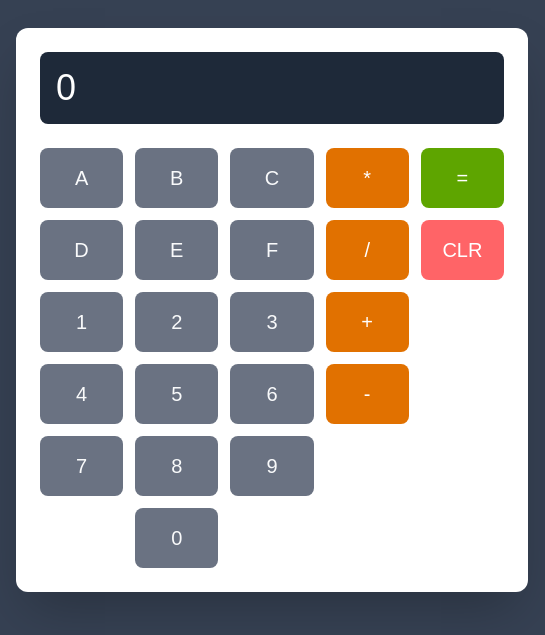
Test case: Calculator Add Funtion › should subtract 1 with FFF
Click the button with test id "1". click: (82, 322)
box: 40,292 -> 123,352
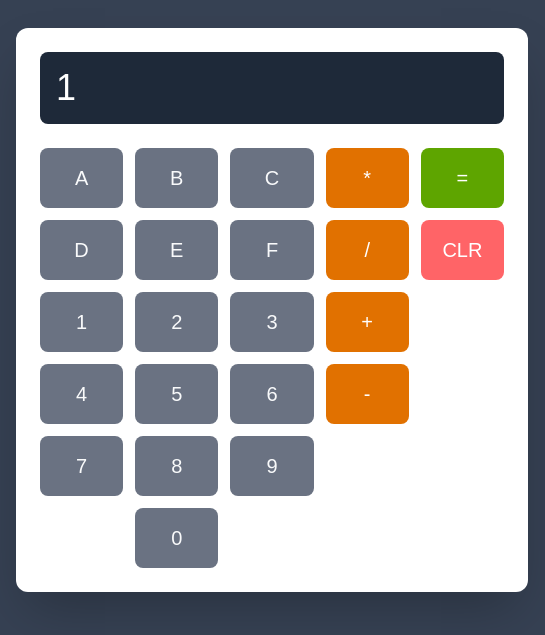
Click the button with test id "-". click: (368, 394)
box: 326,364 -> 409,424
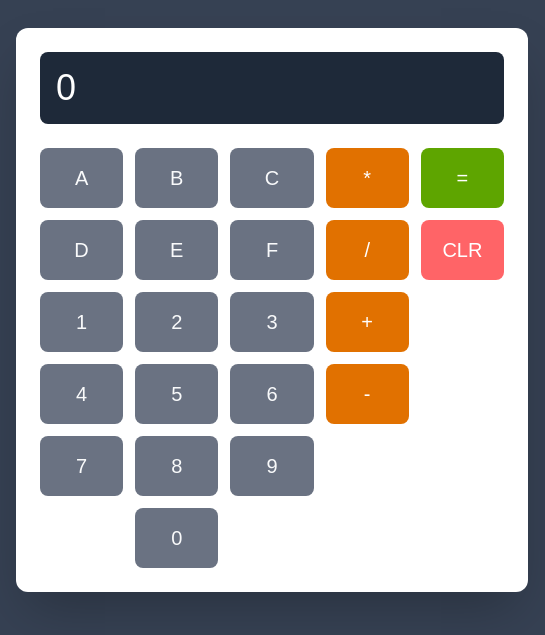
Click the button with test id "F". click: (272, 250)
box: 230,220 -> 313,280
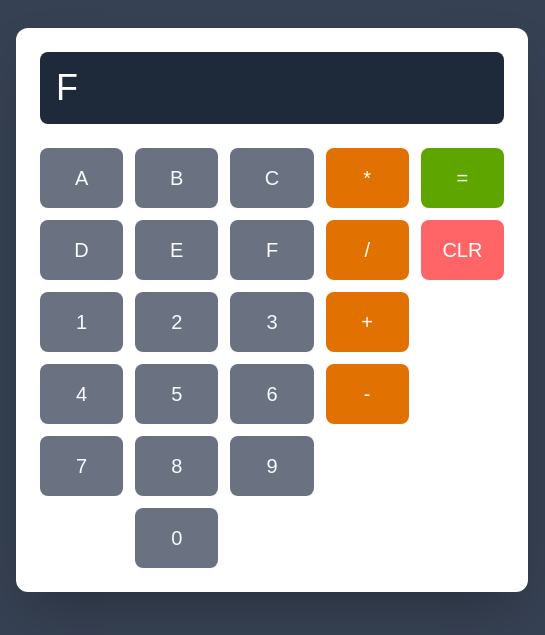
Click the button with test id "F". click: (272, 250)
box: 230,220 -> 313,280
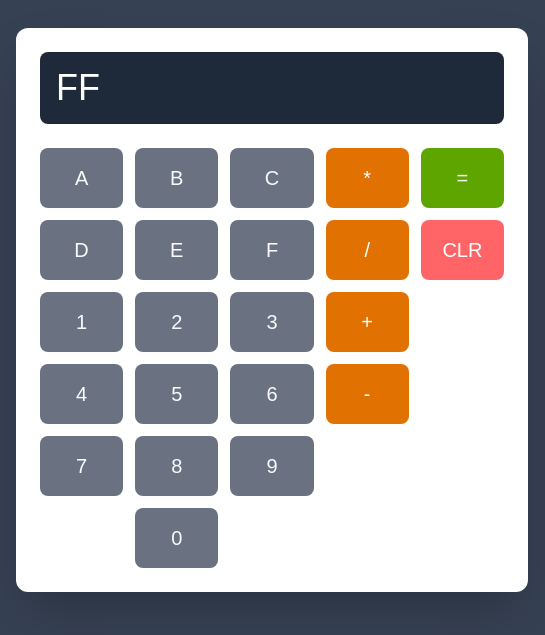
Click the button with test id "F". click: (272, 250)
box: 230,220 -> 313,280
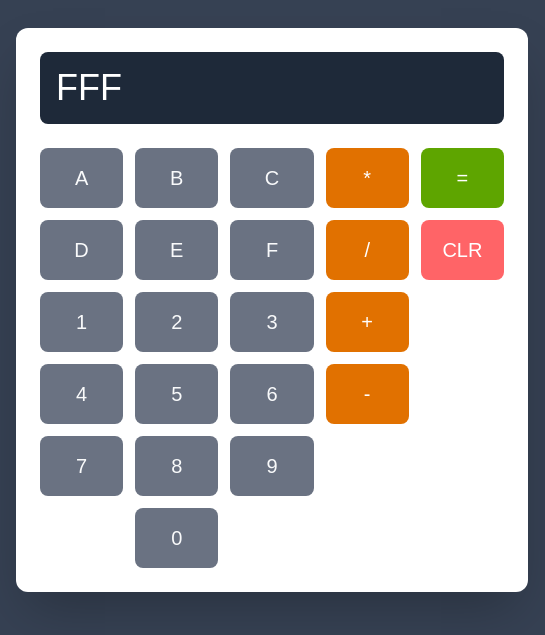
Click the button with test id "equals-btn". click: (463, 178)
box: 421,148 -> 504,208
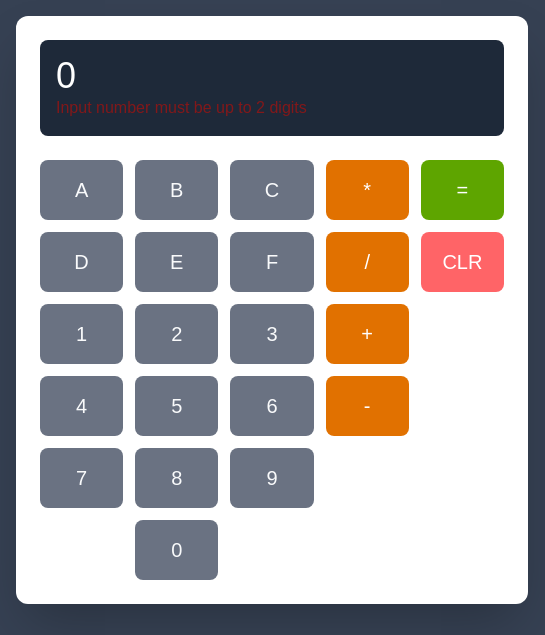
Expected: the text with test id "display-value" reads "0", 56,55 -> 76,96
Expected: the text with test id "error-message" reads "Input number must be up to 2 digits", 56,99 -> 307,116
